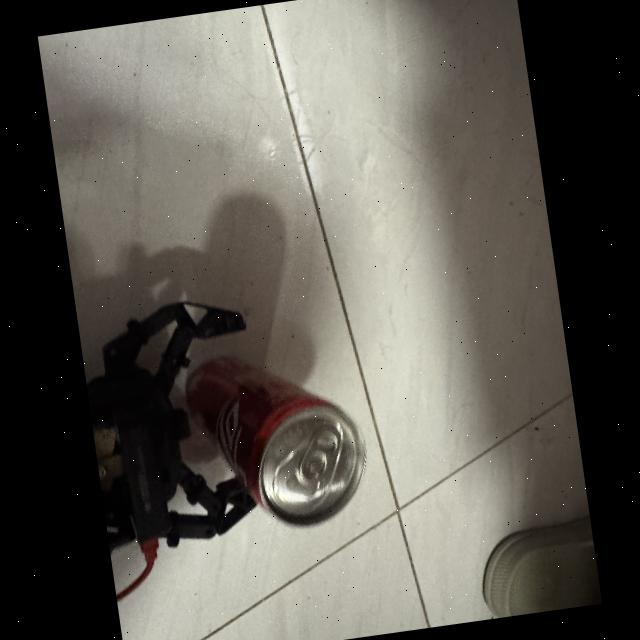Cola: (176, 328, 388, 560)
